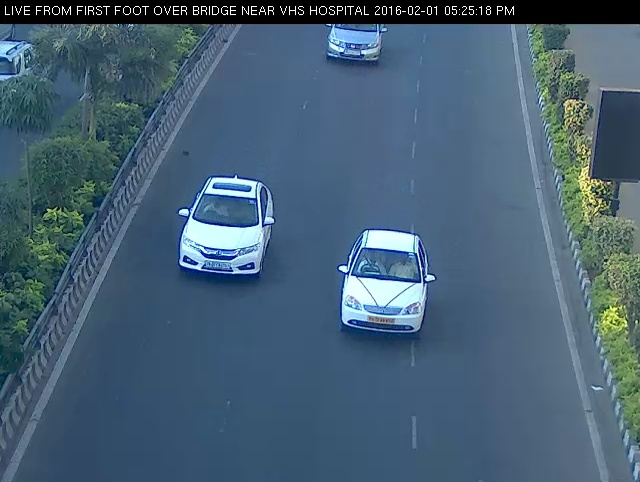Car: (325, 218, 442, 347), (166, 169, 285, 285), (315, 14, 396, 74)
